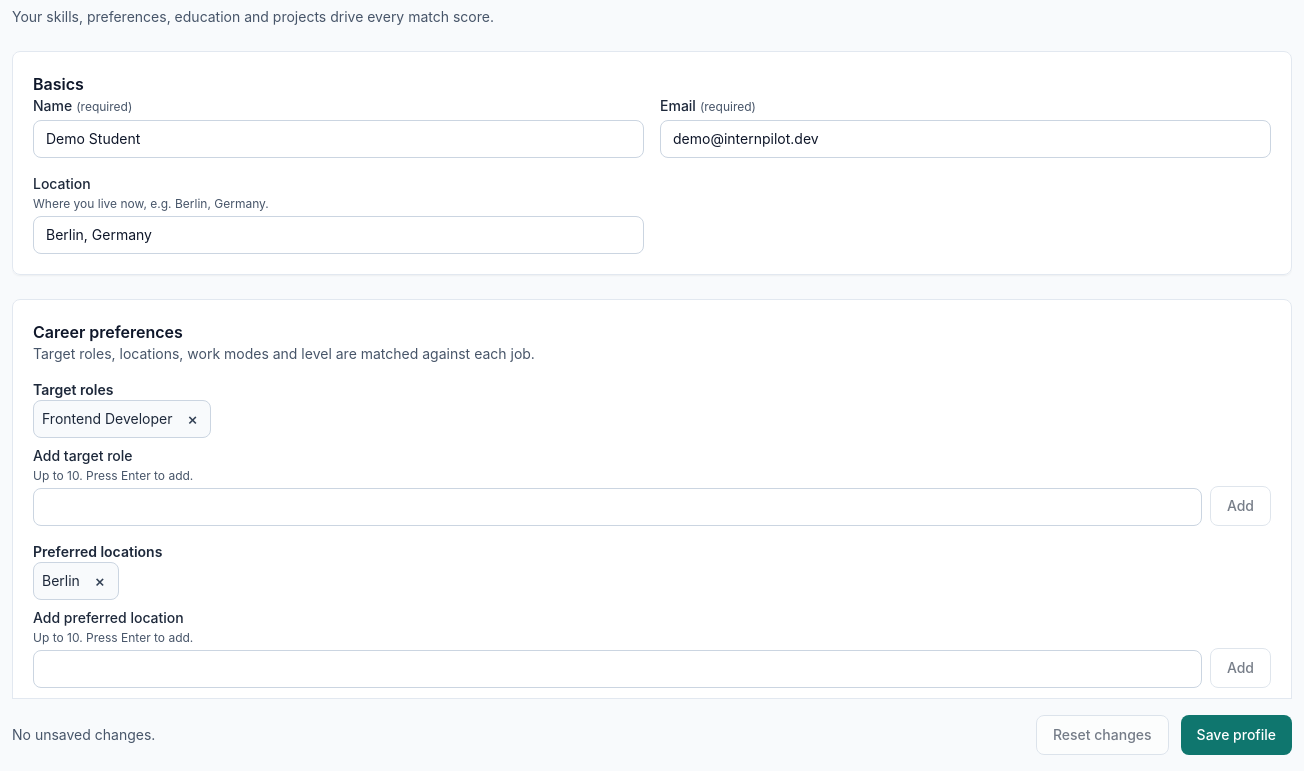
ProfilePage › sends the full profile on save, toasts and resets to the stored profile
Replace the text in the field labelled "Name(required)" with "Demo Graduate" at {"x": 338, "y": 139}, box top-left (33, 120), bottom-right (644, 158)
(page scrolled)
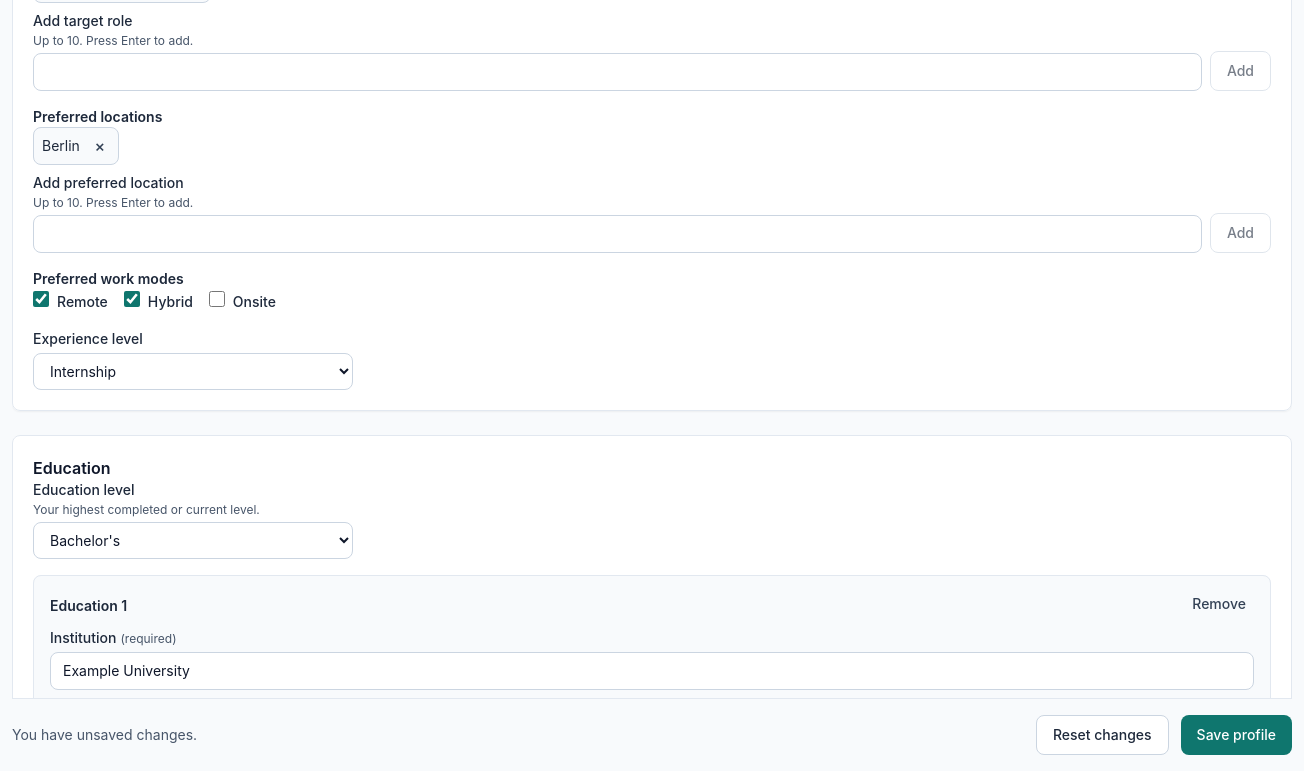
Select "Junior" in the dropdown labelled "Experience level" at {"x": 193, "y": 372}, box top-left (33, 353), bottom-right (353, 390)
(page scrolled)
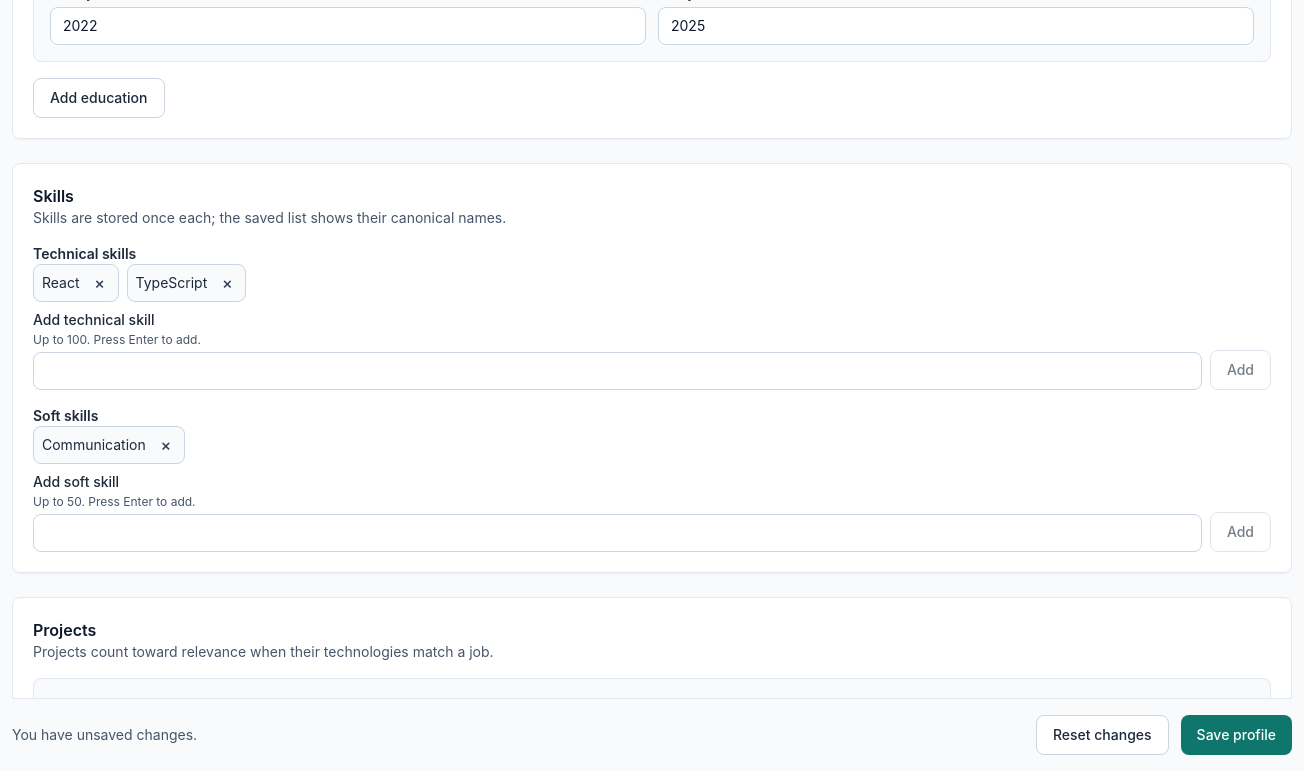
Type "Python" into the field labelled "Add technical skill" at {"x": 617, "y": 371}, box top-left (33, 352), bottom-right (1202, 390)
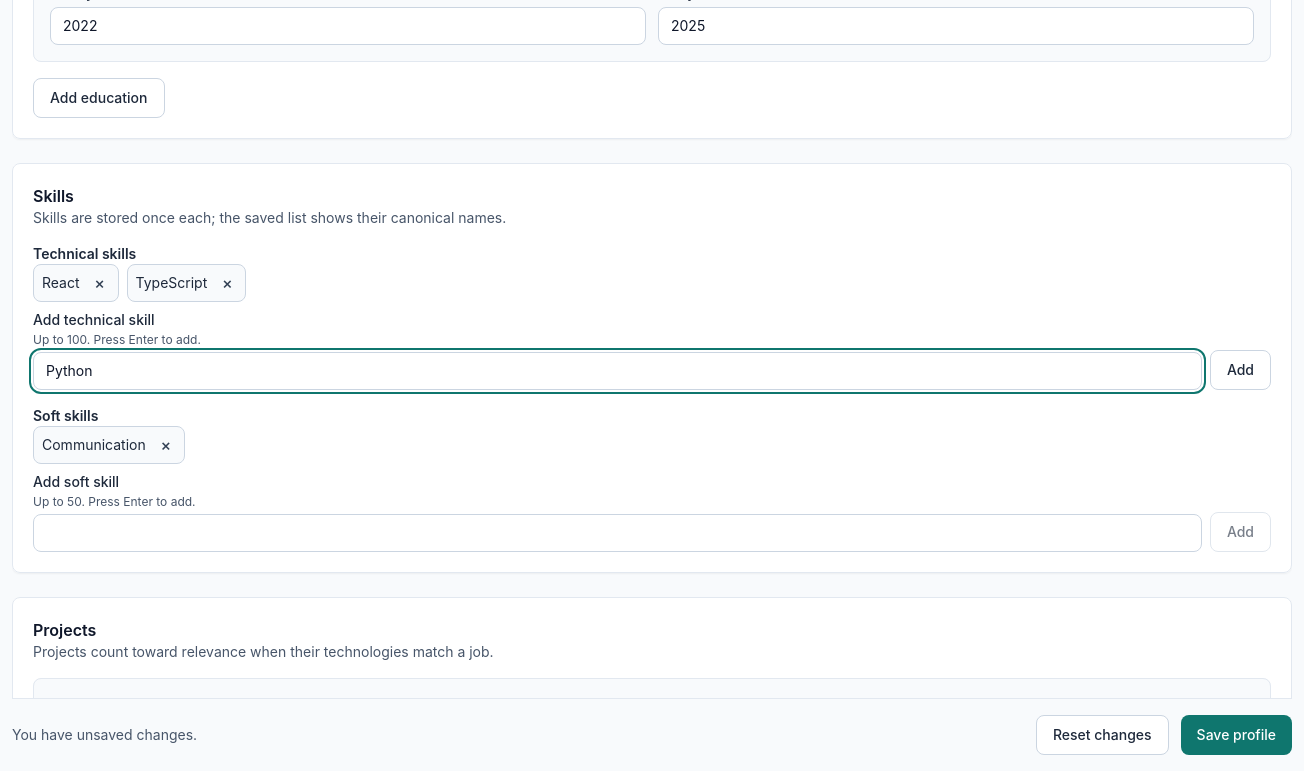
Click the button named "Add technical skill" at {"x": 1240, "y": 370}, box top-left (1210, 350), bottom-right (1271, 390)
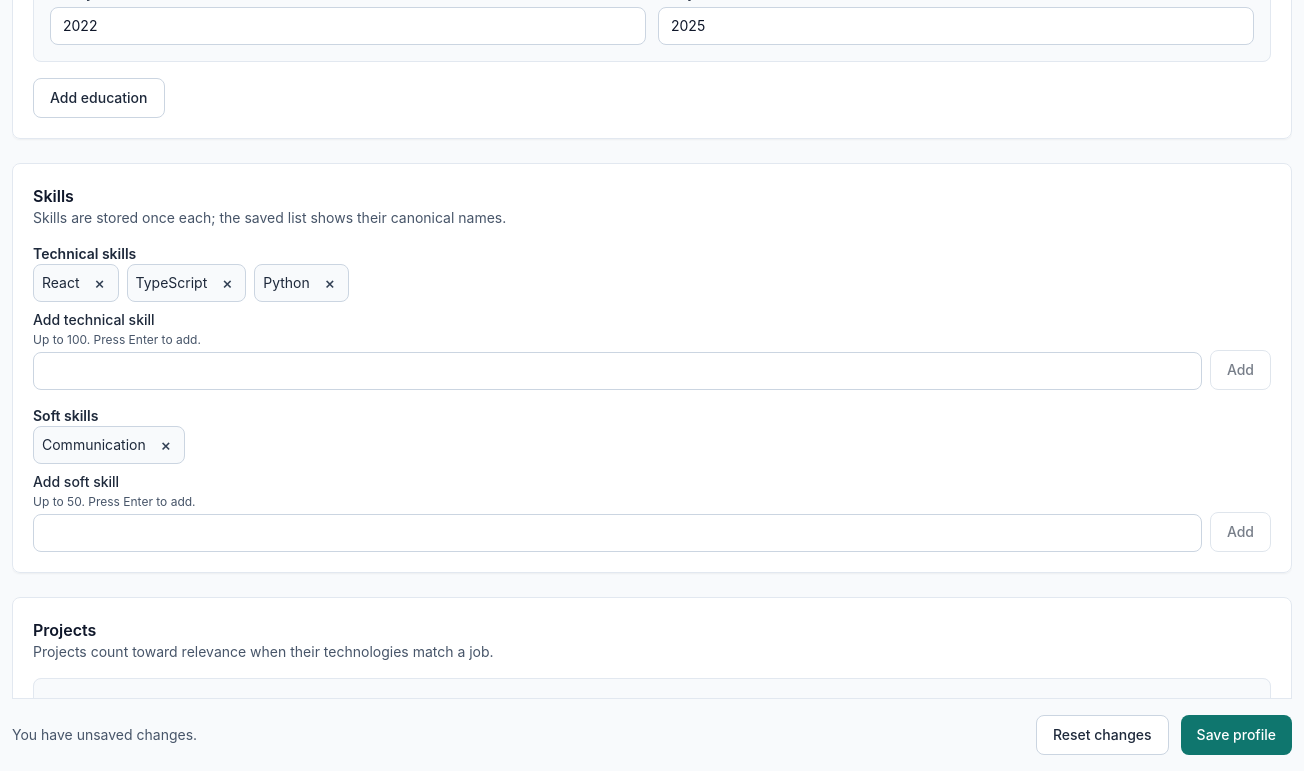
Result: the text "You have unsaved changes." is shown at top-left (12, 725), bottom-right (197, 745)
Click the button "Save profile" at {"x": 1236, "y": 735}, box top-left (1181, 715), bottom-right (1292, 755)
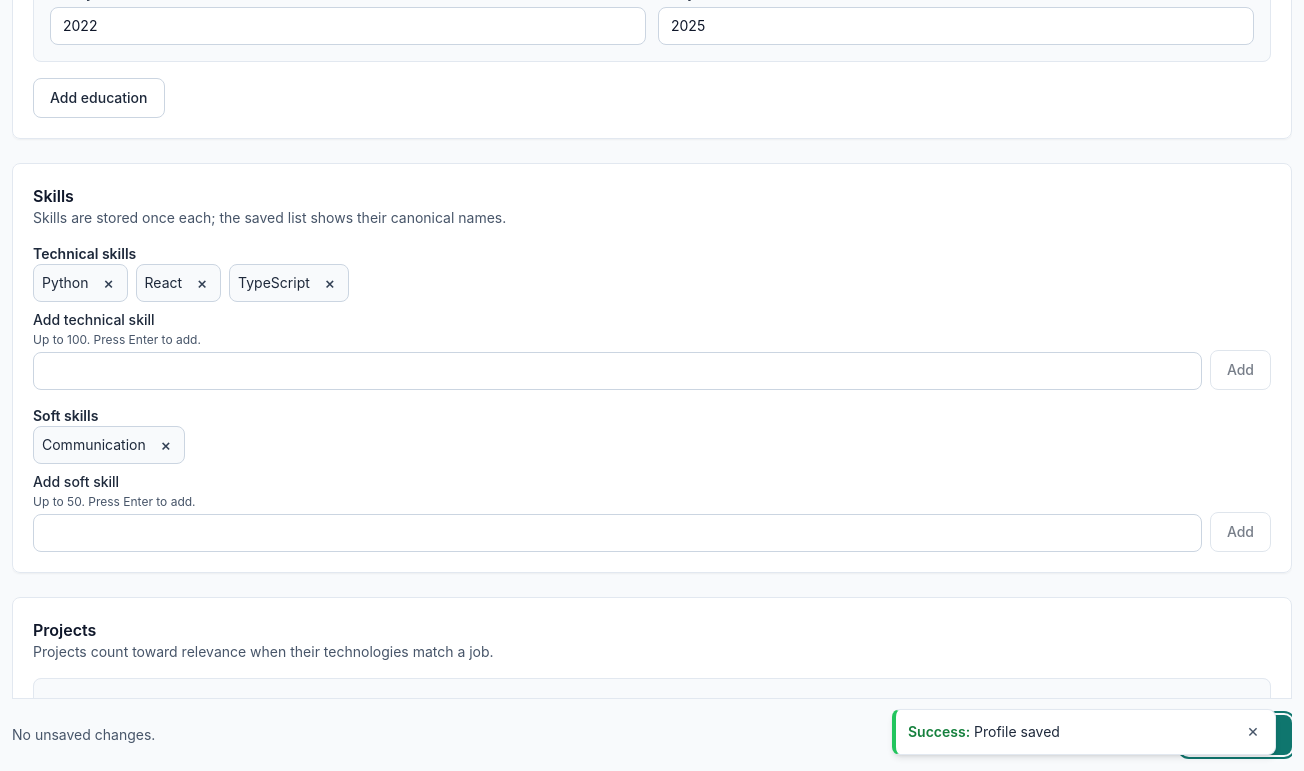
Result: the text "Profile saved" is shown at top-left (974, 723), bottom-right (1060, 740)
Result: the text "No unsaved changes." is shown at top-left (12, 725), bottom-right (155, 745)
